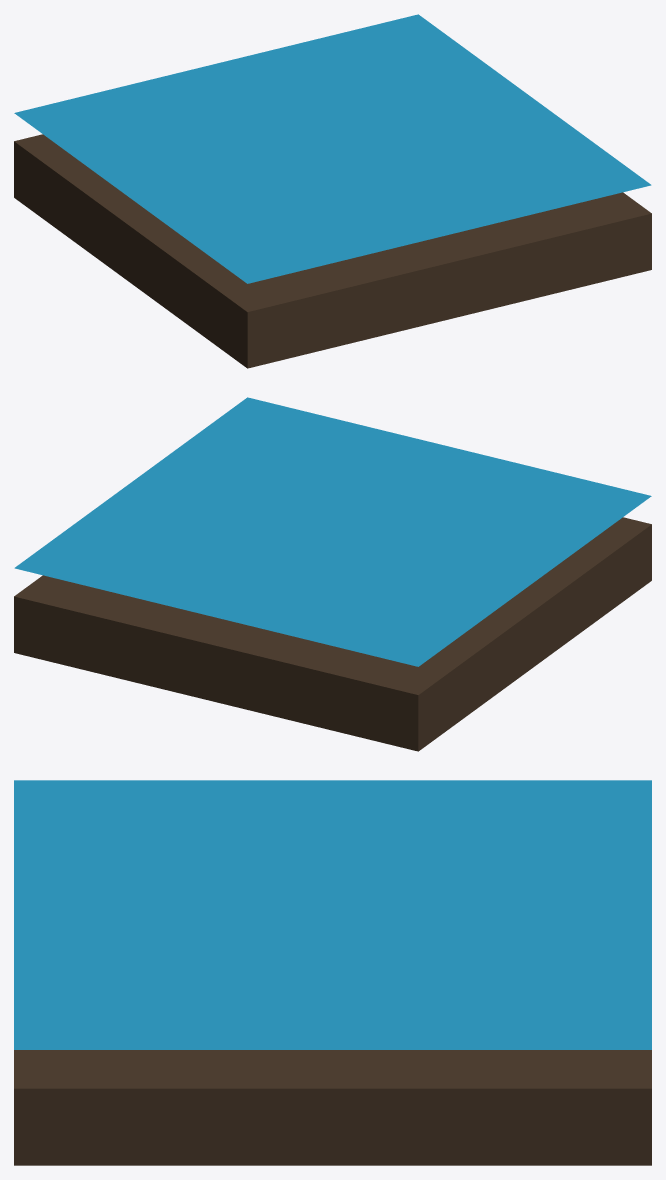
File: tiles_tile-water.fbx
3 renders of one model, top to bottom at view 1: azimuth 30°, elevation 25°; view 2: azimuth 150°, elevation 25°; view 3: azimuth 270°, elevation 25°, orthographic. The views are drawn at different scales.
Visible parts, largest first — view 1: tiles_tile_water; view 2: tiles_tile_water; view 3: tiles_tile_water.
Part boxes in pixels (box(x1,y1,x2,y2)): tiles_tile_water: box(14, 14, 651, 368); tiles_tile_water: box(14, 397, 651, 751); tiles_tile_water: box(14, 780, 651, 1165).
Size of the model in its own units: 200 by 40 by 200.
